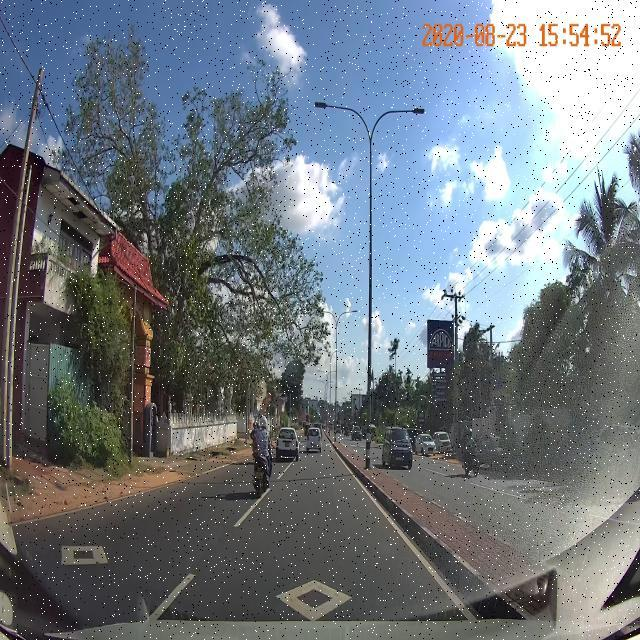diamond: (145, 577, 478, 621)
